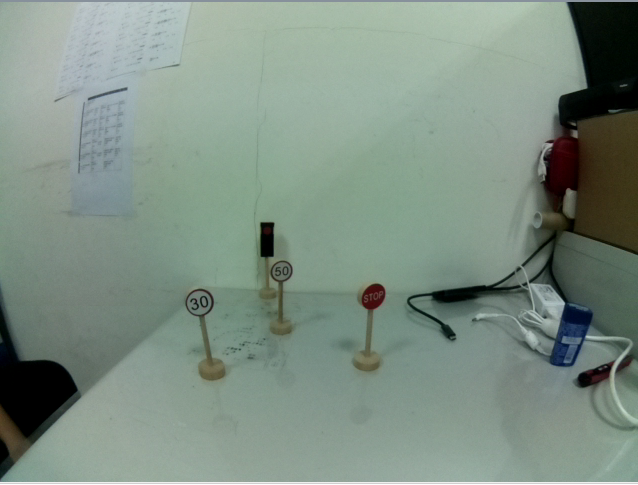Red: (258, 219, 277, 259)
Speed30: (184, 287, 216, 317)
Speed50: (267, 259, 297, 284)
Stop: (357, 283, 392, 312)
